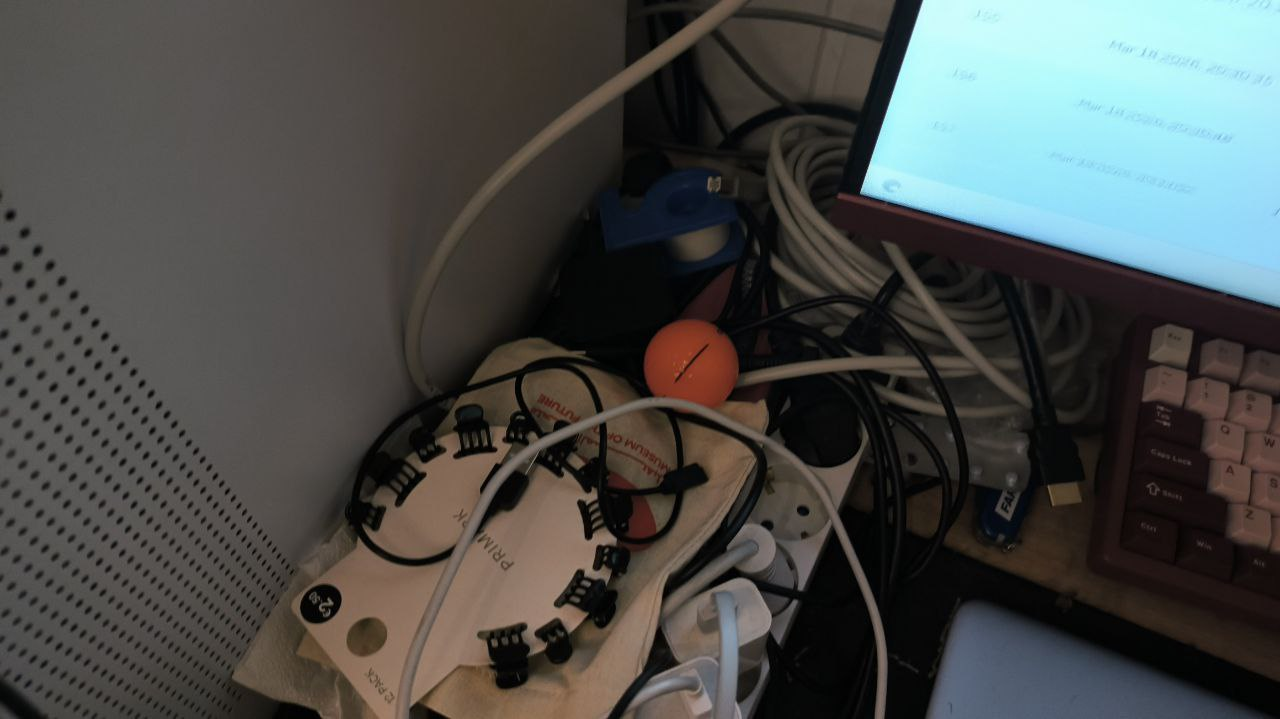orange_ball: (644, 318, 740, 414)
